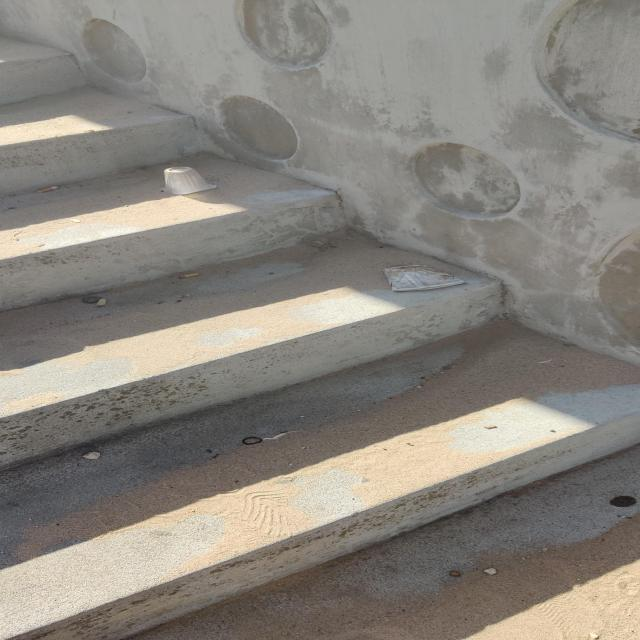litter: (384, 264, 471, 291), (161, 164, 220, 192)
